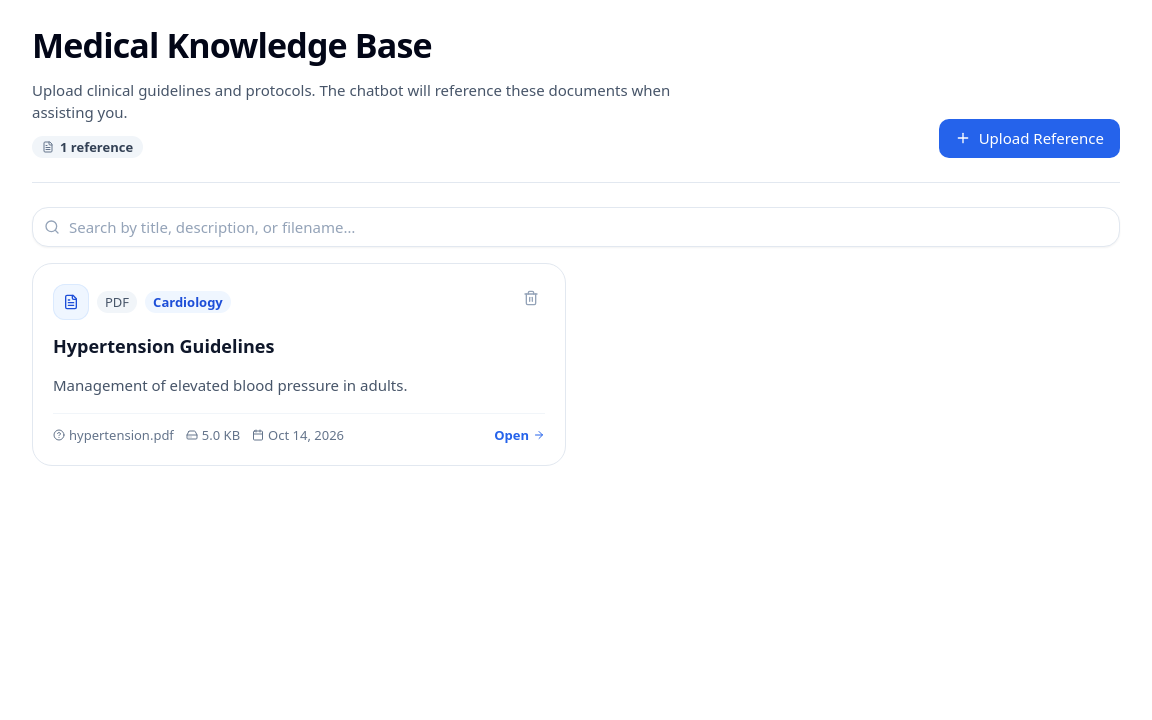
KnowledgeBasePage › removes a document only after the confirm step
What coordinates should you click on to do the following:
click the button named "Remove Hypertension Guidelines"
I would click on:
 (531, 298)
Its box is 517,284 -> 545,312.
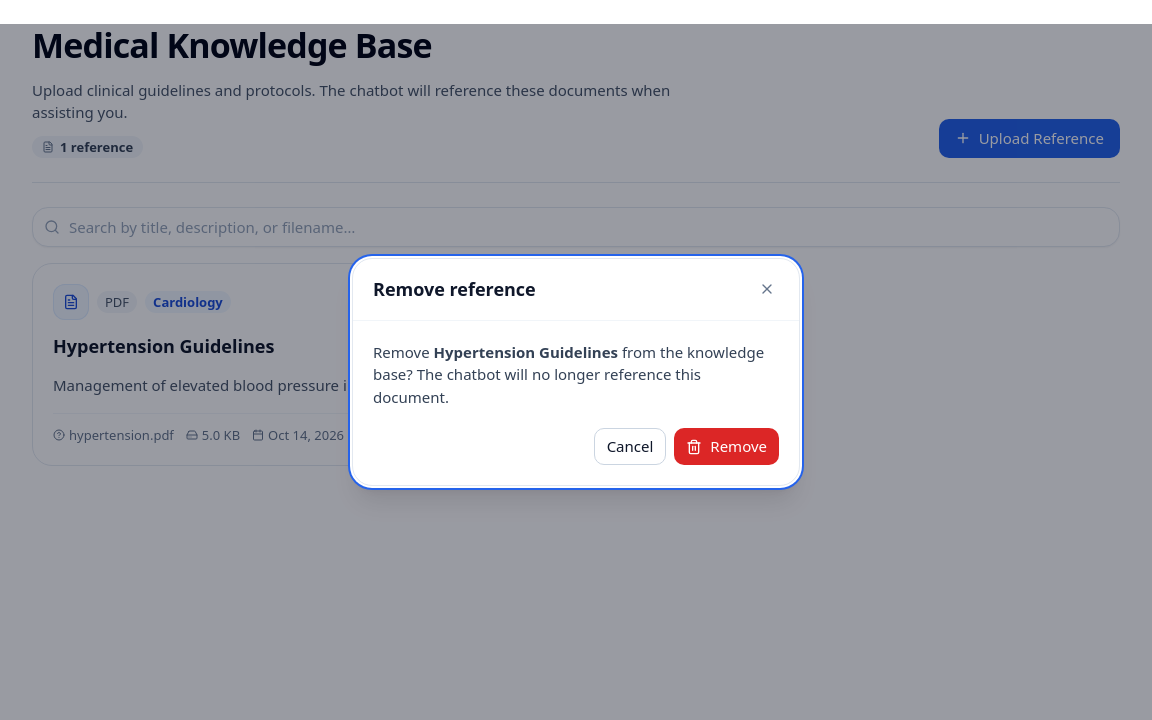
Now the text "the chatbot will no longer reference" is shown, box 373,342 -> 764,407
What coordinates should you click on to do the following:
click the button "Remove"
I would click on:
 (727, 447)
Its box is 674,428 -> 779,465.
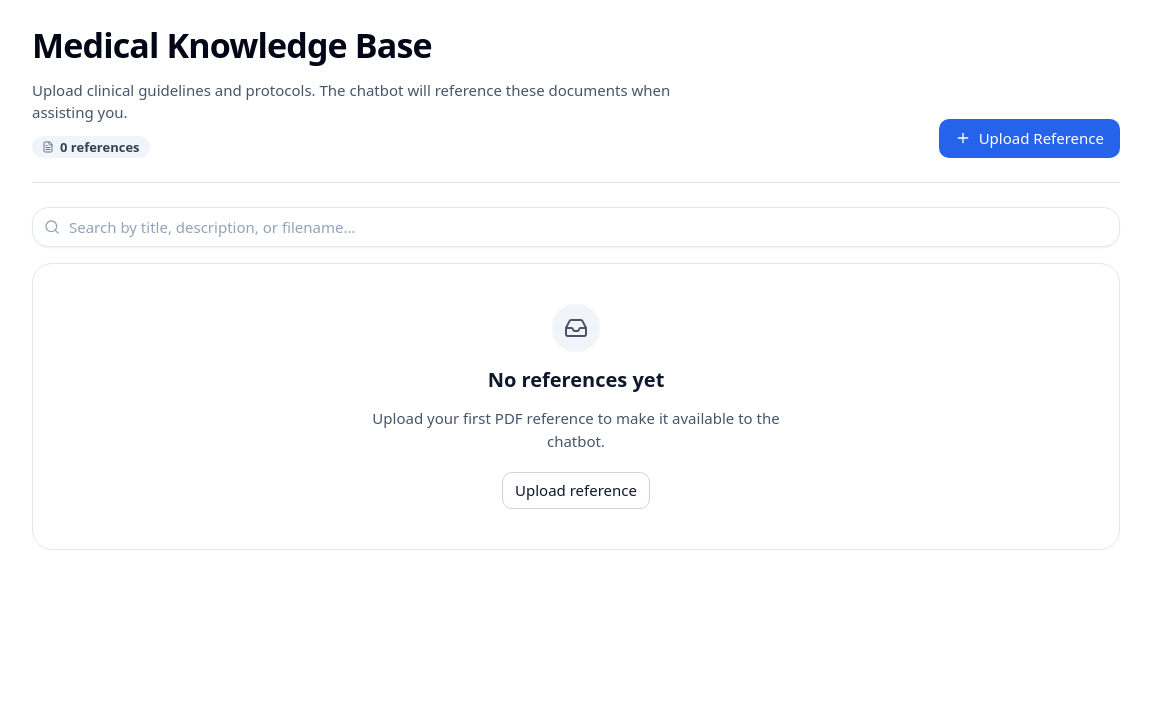
Now the heading "No references yet" is shown, box 488,364 -> 664,395
Now the dialog is gone
